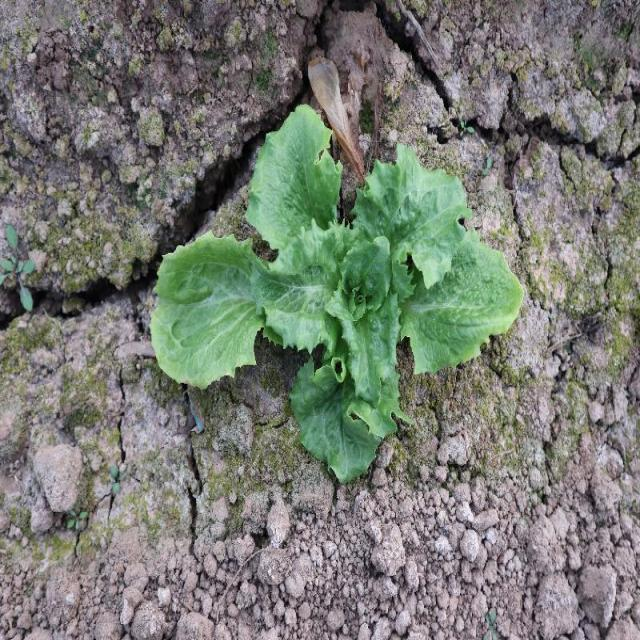crop: (152, 101, 525, 486)
